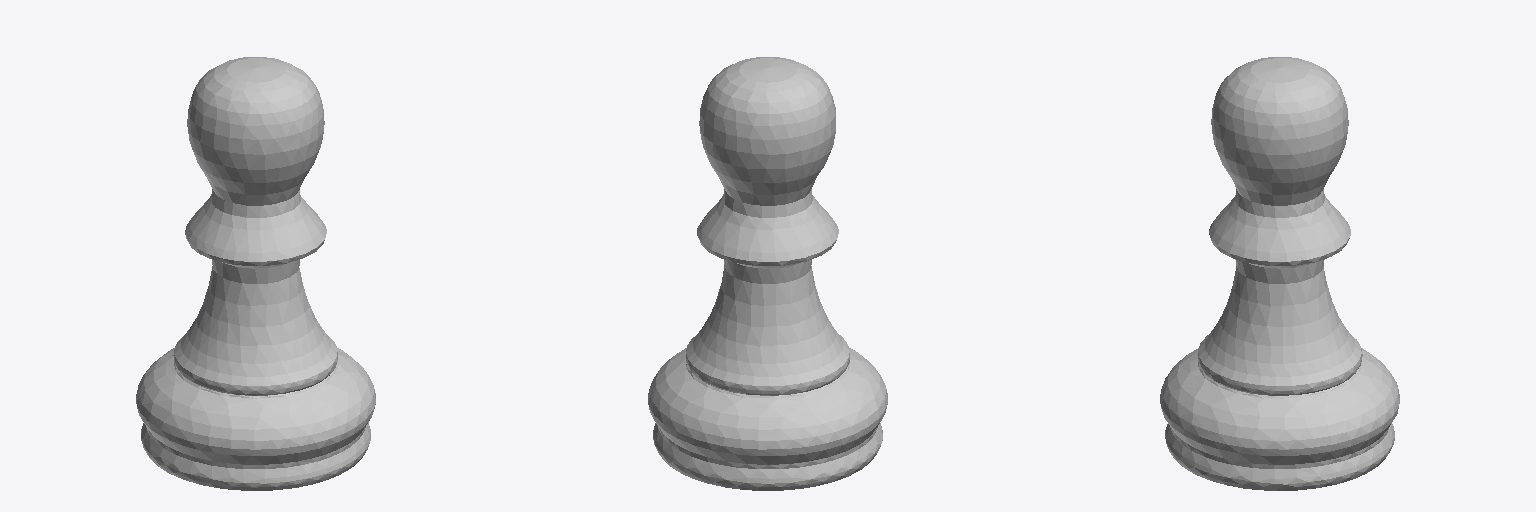
File: pawnFigure.obj
The picture shows the model from 3 angles: view 1: azimuth 30°, elevation 25°; view 2: azimuth 150°, elevation 25°; view 3: azimuth 270°, elevation 25°; orthographic projection.
Parts seen in each view (by area): view 1: Cylinder.006; view 2: Cylinder.006; view 3: Cylinder.006.
Part boxes in pixels (x1,y1,x2,y2): Cylinder.006: (136, 57, 375, 490); Cylinder.006: (648, 57, 887, 490); Cylinder.006: (1160, 57, 1399, 490).
Bounding box in the file's own units: 0.4178 × 0.7213 × 0.4181.